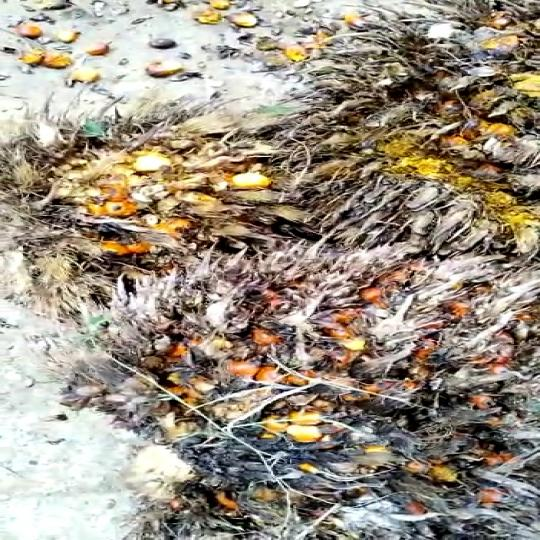terlalu masak: (81, 228, 540, 540), (0, 112, 330, 286)
